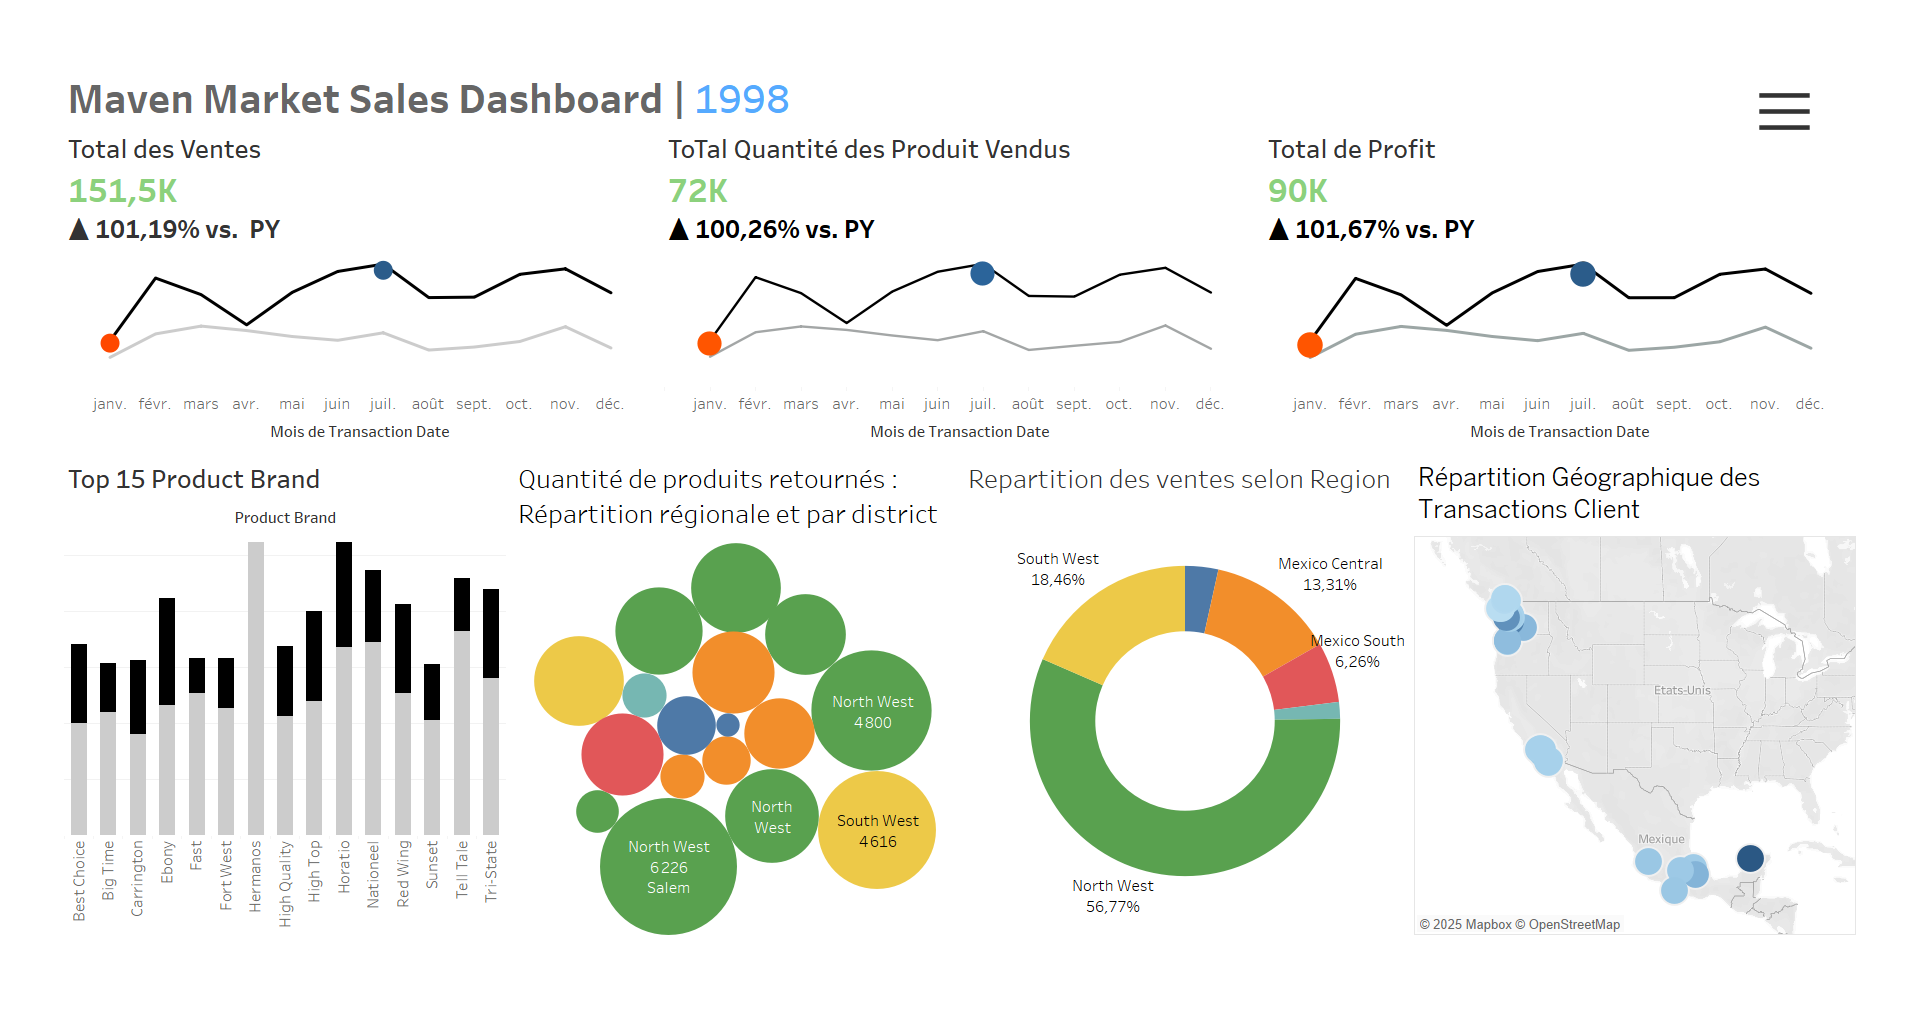

This screenshot's page, from the dashboard's own definition file:
{"tool":"tableau","page":{"name":"Tableau de bord 1","canvas":[1800,900],"ordinal":0},"visuals":[{"type":"text","box":[0,0,1800,52]},{"type":"dashboard-object","box":[1682.5,12.6,84.7,55.2]},{"type":"legend","title":"Feuille 4","param":"[federated.0bzpg8l1aooxey10393xw0if7xnt].[:Measure Names]","box":[1513.1,27.5,174.7,56.9]},{"type":"worksheet","title":"Feuille 4","mark":"Automatic","rows":["Calculation_1623829176032690176"],"cols":["transaction_date"],"box":[0,52,600,330]},{"type":"worksheet","title":"Feuille 3","mark":"Automatic","rows":["MIN/Max Ventes (copie)_1623829176083013640"],"cols":["transaction_date"],"box":[600,52,600,330]},{"type":"worksheet","title":"Feuille 2","mark":"Line","rows":["MIN/Max Quantité  (copie)_1623829176095784975"],"cols":["transaction_date"],"box":[1200,52,600,330]},{"type":"legend","title":"Feuille 9","param":"[federated.0bzpg8l1aooxey10393xw0if7xnt].[sum:quantity:qk]","box":[1513.1,84.5,174.7,56.9]},{"type":"parameter","param":"[Parameters].[Paramètre 1]","box":[1513.1,141.4,174.7,70.9]},{"type":"legend","title":"Feuille 12","param":"[federated.0bzpg8l1aooxey10393xw0if7xnt].[sum:Calculation_1101974569196331016:qk","box":[1513.1,212.3,174.7,56.9]},{"type":"legend","title":"Feuille 11","param":"[federated.0bzpg8l1aooxey10393xw0if7xnt].[none:sales_region:nk]","box":[1513.1,269.2,174.7,56.9]},{"type":"worksheet","title":"Feuille 7","mark":"Bar","rows":["Calculation_1101974569187766275","CY Sales  (copie)_1101974569189048324"],"cols":["product_brand"],"box":[0,382,450,486]},{"type":"worksheet","title":"Feuille 11","mark":"Circle","box":[450,382,450,486]},{"type":"worksheet","title":"Feuille 12","mark":"Pie","rows":["Calculation_931682209752338435","Calculation_931682209752338435"],"box":[900,382,450,486]},{"type":"worksheet","title":"Feuille 9","mark":"Automatic","box":[1350,382,450,486]}]}

Visuals, with their boxes on the page's 1800x900 design canvas (x1, y1, x2, y2). These are canvas units, not pixel positions in the 1920x1033 screenshot, which may show the page scaled, cropped or inside an application window:
text: crop(0, 0, 1800, 52)
dashboard-object: crop(1682, 13, 1767, 68)
"Feuille 4" legend: crop(1513, 28, 1688, 84)
"Feuille 4" worksheet: crop(0, 52, 600, 382)
"Feuille 3" worksheet: crop(600, 52, 1200, 382)
"Feuille 2" worksheet (Line marks): crop(1200, 52, 1800, 382)
"Feuille 9" legend: crop(1513, 84, 1688, 141)
parameter: crop(1513, 141, 1688, 212)
"Feuille 12" legend: crop(1513, 212, 1688, 269)
"Feuille 11" legend: crop(1513, 269, 1688, 326)
"Feuille 7" worksheet (Bar marks): crop(0, 382, 450, 868)
"Feuille 11" worksheet (Circle marks): crop(450, 382, 900, 868)
"Feuille 12" worksheet (Pie marks): crop(900, 382, 1350, 868)
"Feuille 9" worksheet: crop(1350, 382, 1800, 868)
